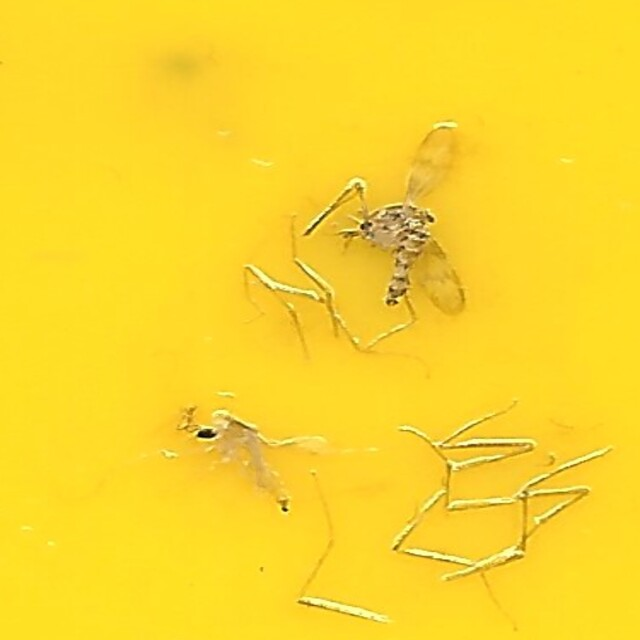Nematocera: (265, 126, 469, 345), (171, 402, 321, 514)
